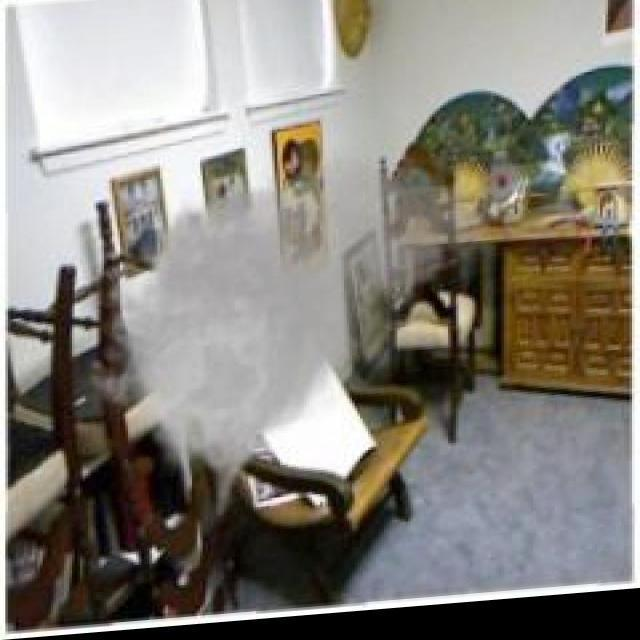Smoke: (125, 164, 492, 511)
